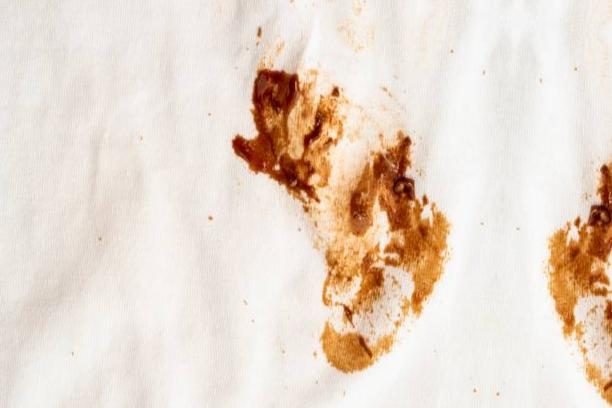stain: (227, 65, 456, 387), (543, 162, 612, 407)
